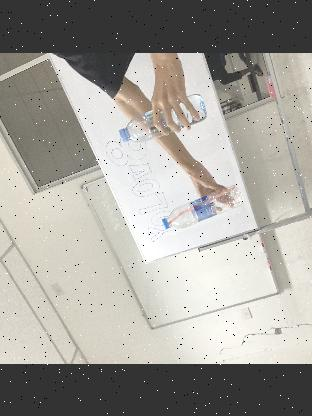Plastic Bottle: (118, 92, 207, 142), (161, 183, 247, 229)
